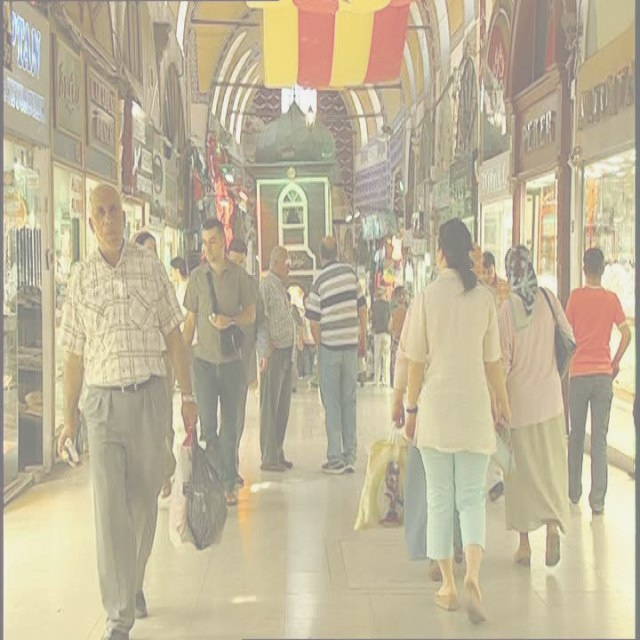pessoa: (54, 182, 200, 639), (396, 212, 514, 629), (487, 239, 577, 569), (182, 220, 260, 510), (389, 300, 466, 581), (564, 247, 632, 516), (301, 234, 368, 476), (224, 236, 270, 490), (248, 240, 297, 477), (168, 255, 200, 420), (302, 286, 326, 394), (370, 284, 392, 390), (481, 250, 512, 308), (288, 286, 302, 392), (600, 253, 636, 284), (128, 228, 158, 258), (630, 388, 639, 488), (488, 466, 504, 508), (391, 286, 408, 316), (391, 284, 411, 308)
